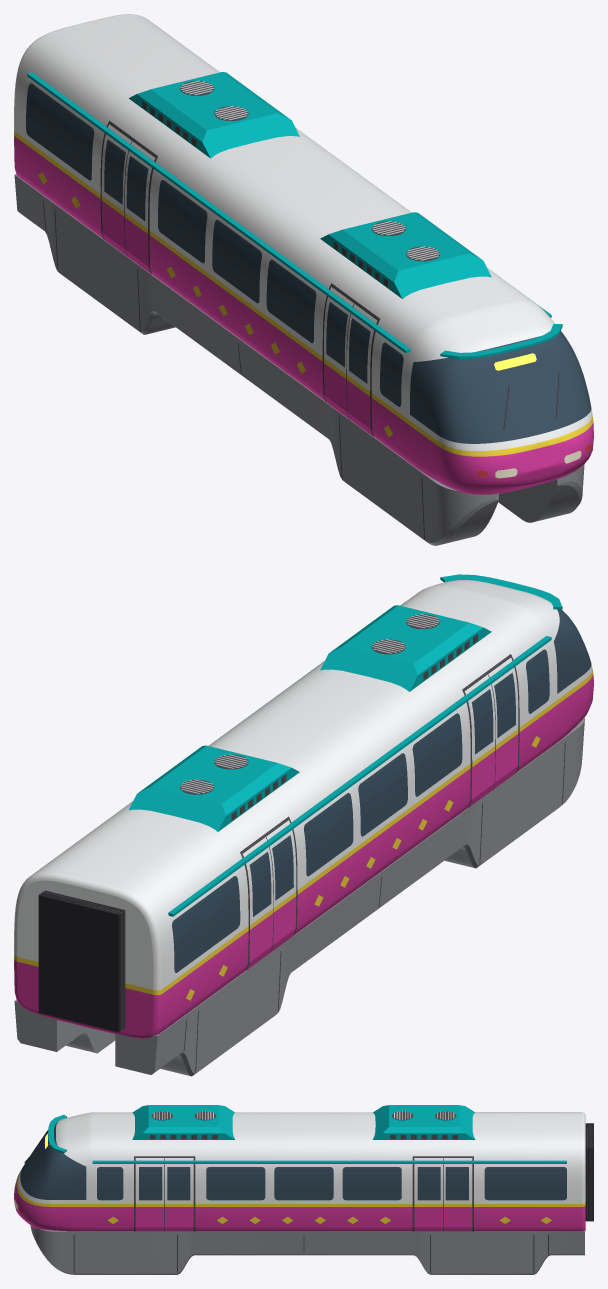
Rendered from 4_close.fbx.
The picture shows the model from 3 angles, top to bottom: view 1: azimuth 30°, elevation 25°; view 2: azimuth 150°, elevation 25°; view 3: azimuth 270°, elevation 25°; orthographic projection. The views are drawn at different scales.
Visible parts, largest first — view 1: 24_4_close; view 2: 24_4_close; view 3: 24_4_close.
Part boxes in pixels (bbox=[...]): 24_4_close: bbox=[14, 14, 593, 545]; 24_4_close: bbox=[14, 574, 593, 1076]; 24_4_close: bbox=[14, 1105, 593, 1274].
Size of the model in its own units: 2.6 by 3.71 by 14.
